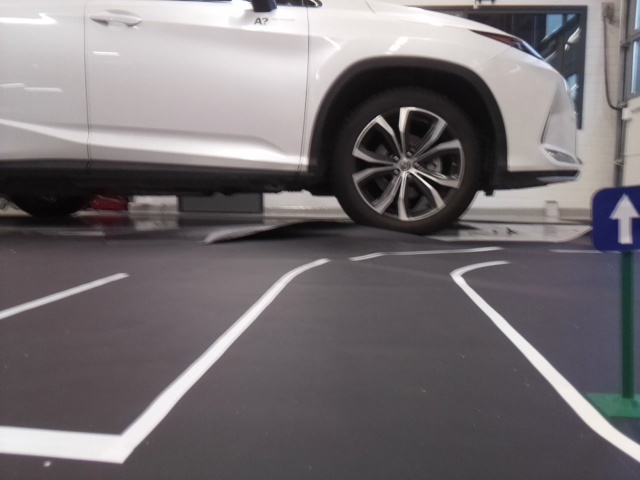OneWay: (590, 184, 638, 249)
